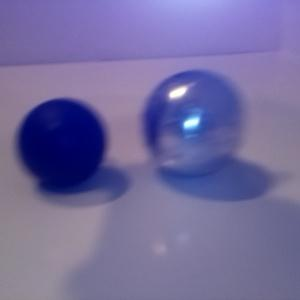alive_ball: (142, 70, 243, 177)
dead_ball: (15, 99, 106, 190)
